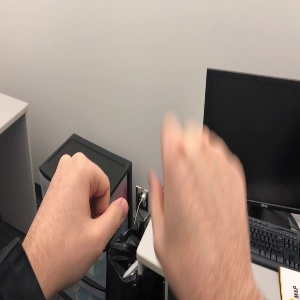hand: (148, 112, 250, 271), (31, 152, 128, 259)
